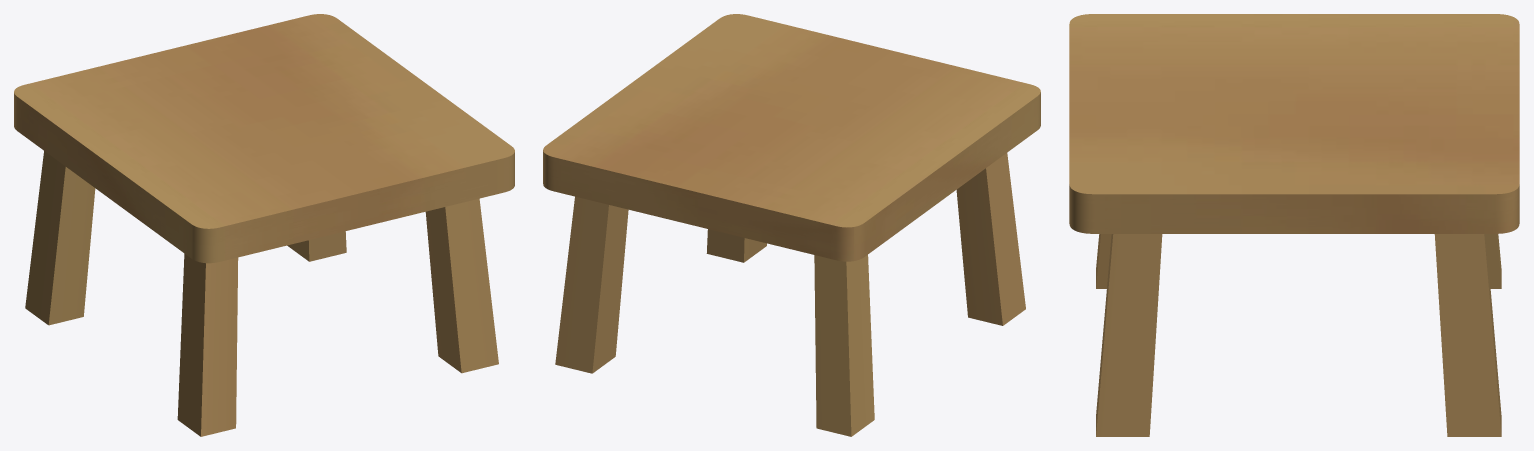
File: mejapel1.fbx
3 views of the same model, side by side, from view 1: azimuth 30°, elevation 25°; view 2: azimuth 150°, elevation 25°; view 3: azimuth 270°, elevation 25° (orthographic). The views are drawn at different scales.
Visible parts, largest first — view 1: meja pelanggan; view 2: meja pelanggan; view 3: meja pelanggan.
Part boxes in pixels (x1,y1,x2,y2): meja pelanggan: [14, 14, 514, 436]; meja pelanggan: [543, 14, 1040, 436]; meja pelanggan: [1069, 14, 1519, 436].
Size of the model in its own units: 514 by 332 by 543.
